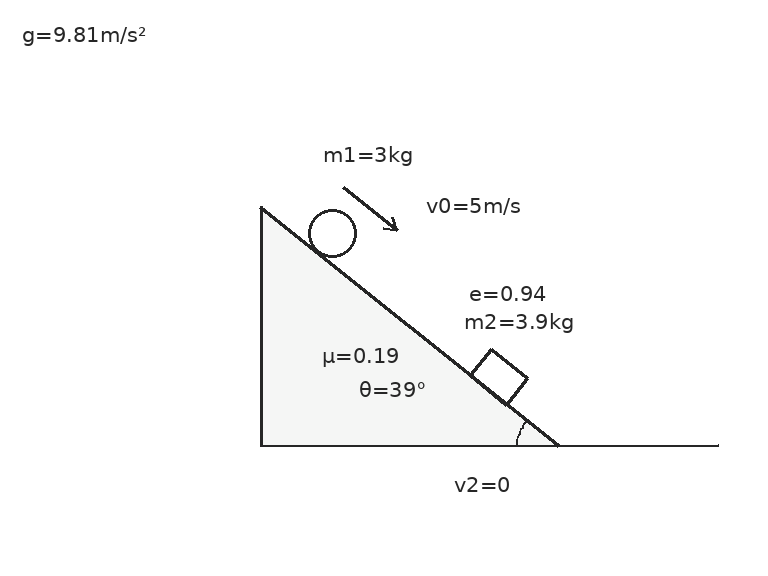ball: (306, 207, 358, 259)
block: (468, 347, 529, 407)
ramp: (259, 204, 559, 448)
